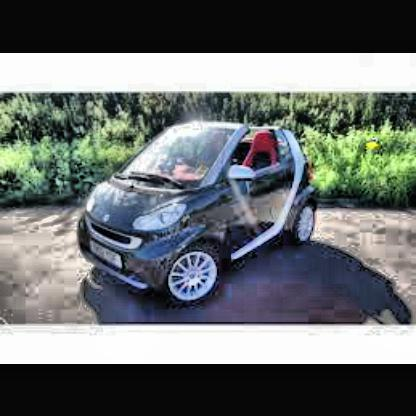smart fortwo Convertible 2012: (79, 120, 321, 320)
